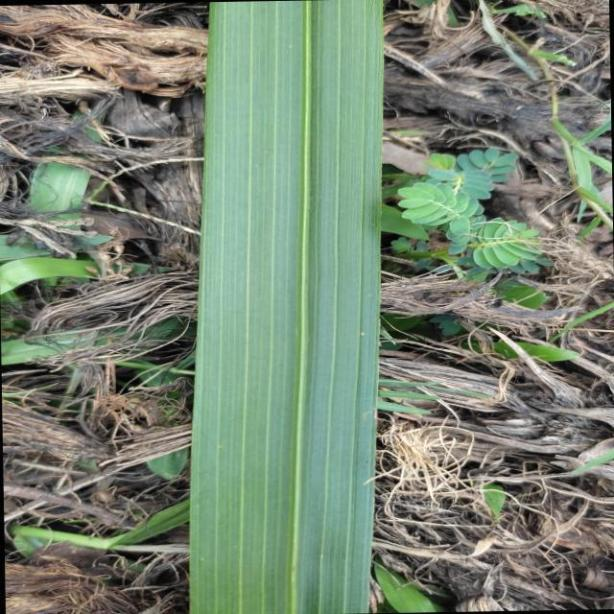Healthy: (193, 1, 391, 614)
